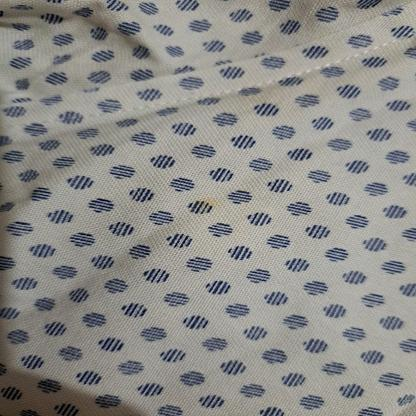spot: (186, 195, 233, 214)
